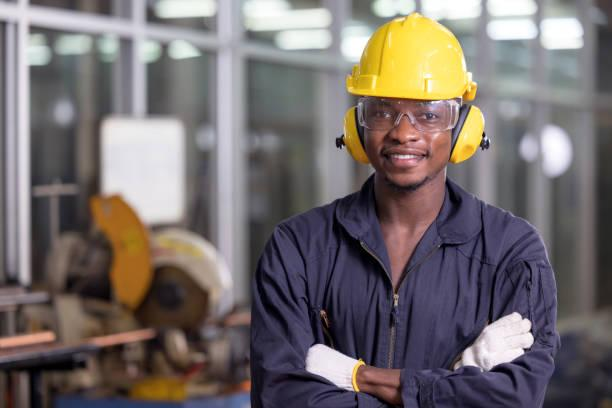capacete: (346, 19, 477, 103)
fone de seguranca: (333, 108, 367, 167), (456, 105, 487, 167)
luva: (452, 313, 533, 367), (303, 337, 368, 395)
oculos de protecao: (355, 94, 458, 128)
pessoa: (249, 29, 559, 408)
